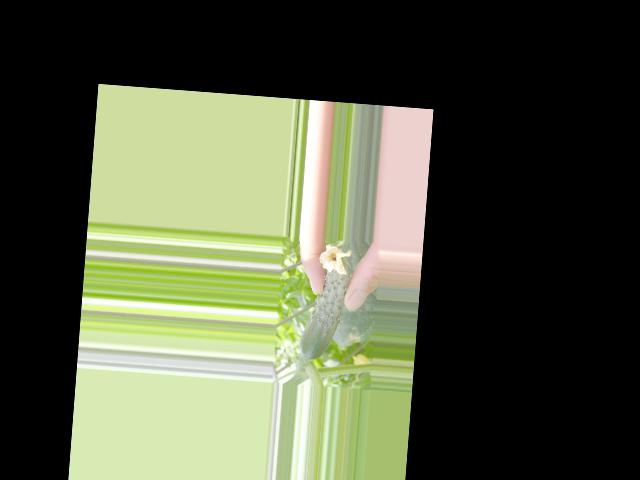cucumber: (299, 244, 352, 362)
